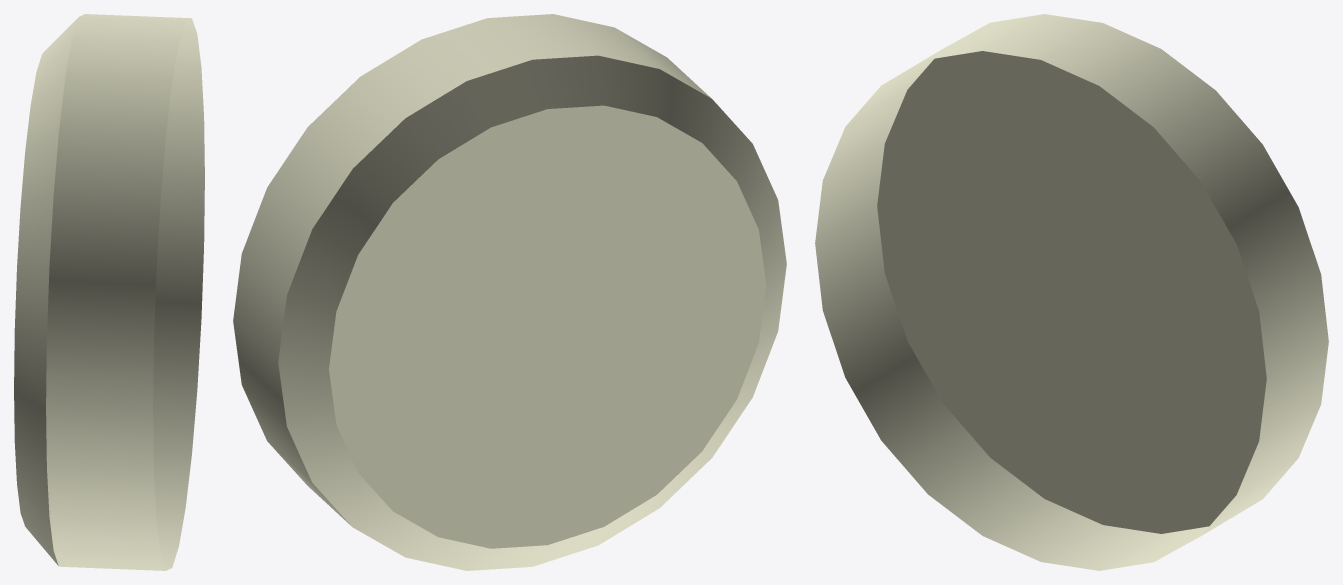
The model's file is original-68.obj.
3 views of the same model, side by side, from view 1: azimuth 30°, elevation 25°; view 2: azimuth 150°, elevation 25°; view 3: azimuth 270°, elevation 25° (orthographic).
Visible parts, largest first — view 1: #ID545; view 2: #ID545; view 3: #ID545.
Boxes of the visible parts, left/top/right/bottom form: #ID545: left=14, top=14, right=204, bottom=570; #ID545: left=233, top=14, right=786, bottom=570; #ID545: left=815, top=14, right=1328, bottom=570.
Size of the model in its own units: 0.0317 by 0.0423 by 0.0393.
